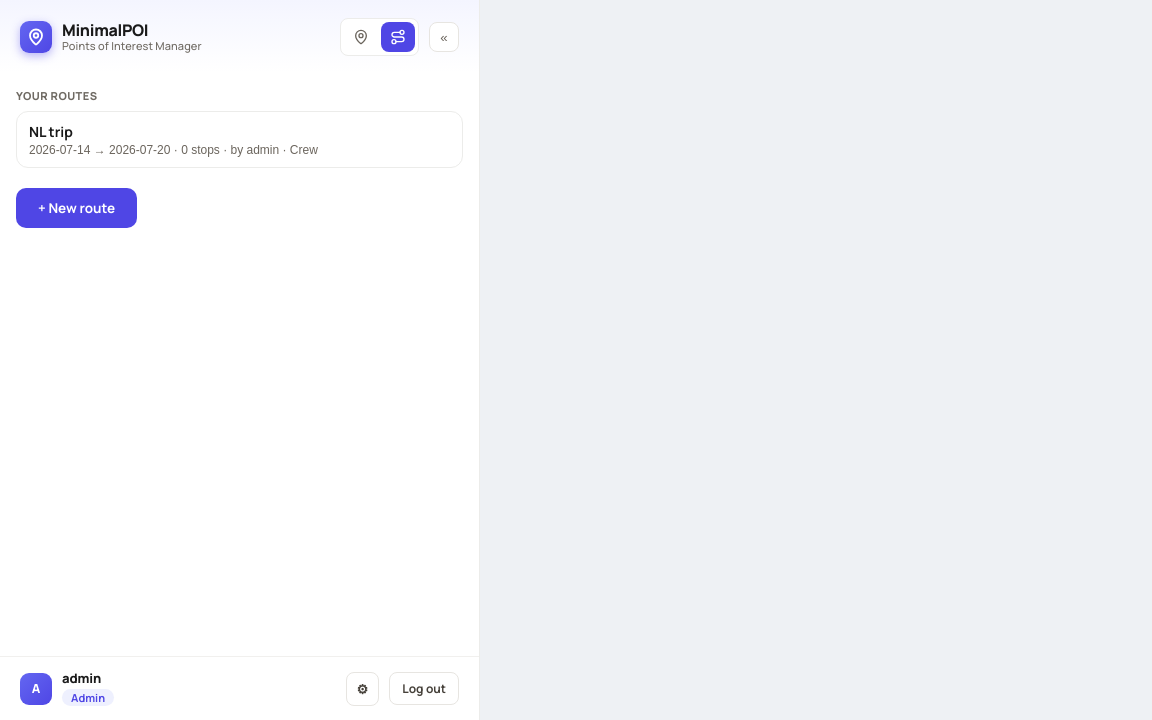
RoutesPage › opens the route form modal in edit mode from the Edit button
Click the button "NL trip 2026-07-14 → 2026-07-20 · 0 stops · by admin · Crew".
click(51, 132)  # box [16,111,463,168]
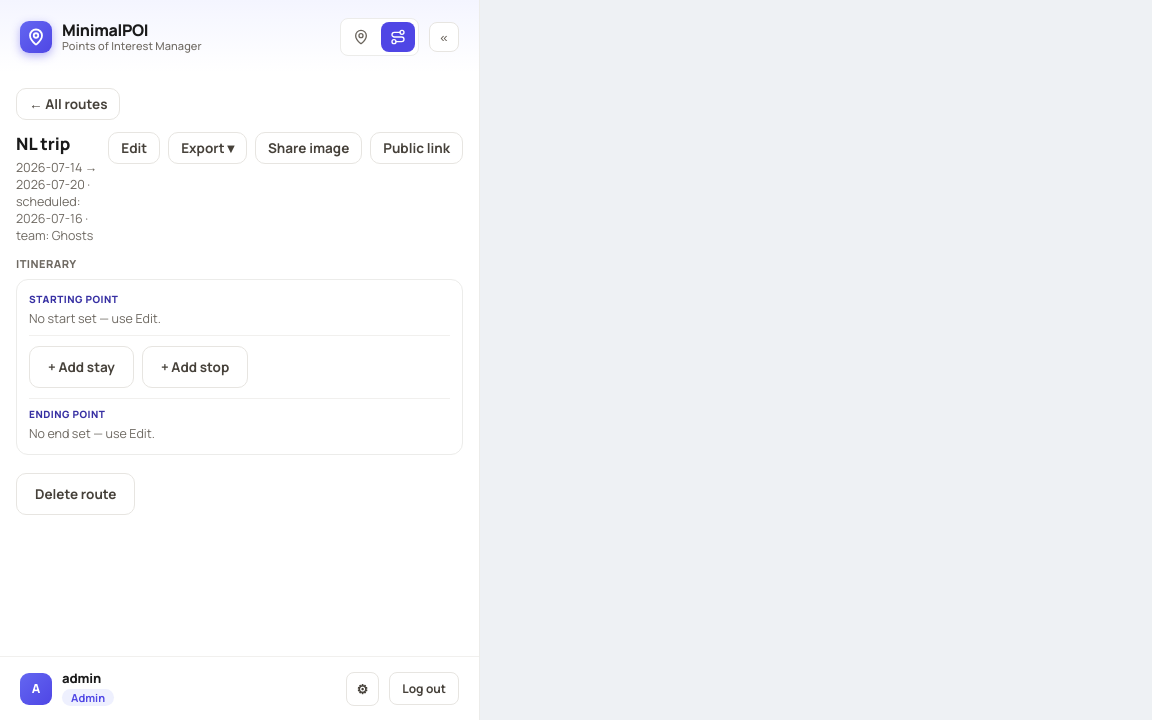
Click the button "Edit".
click(134, 148)  # box [108,132,160,164]
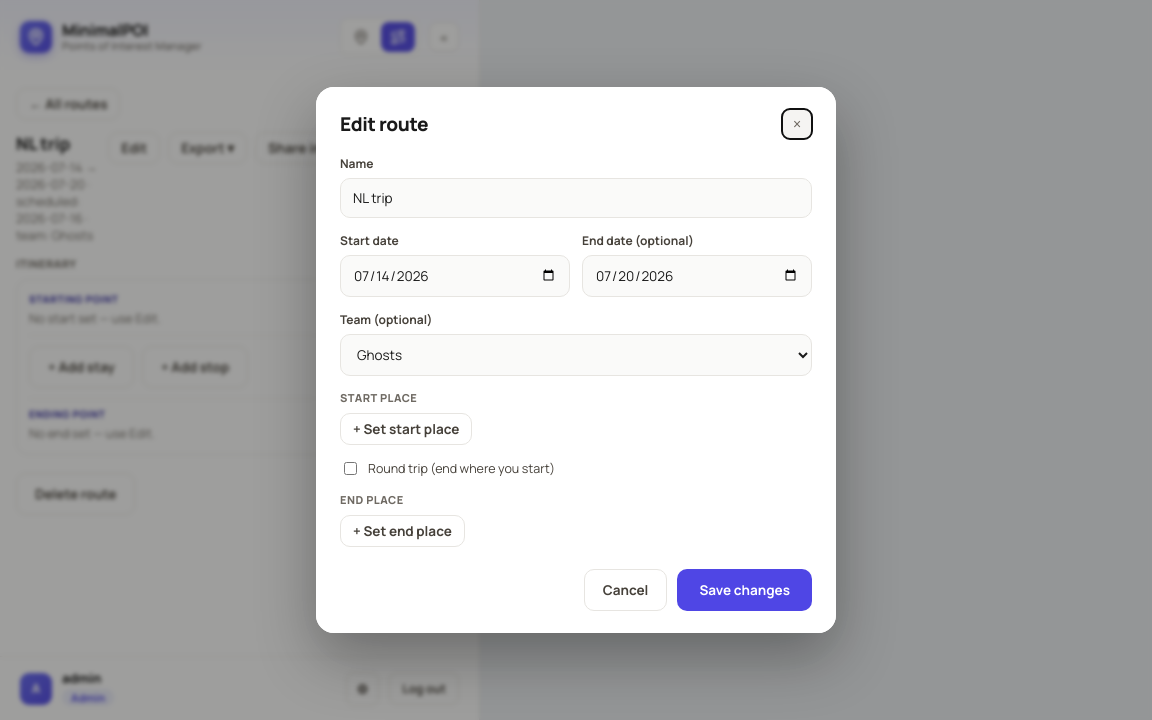
Result: the heading "Edit route" is shown at [340,111,428,137]
Result: the field named "route name" holds "NL trip" at [340,178,812,218]
